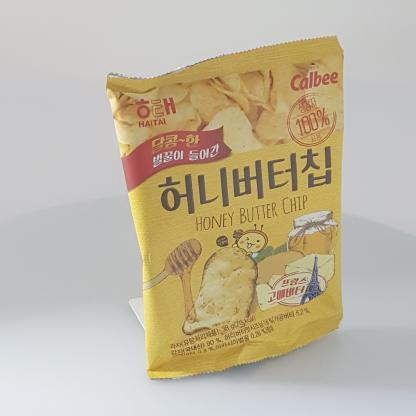Plastic Packaging: (101, 23, 371, 389)
